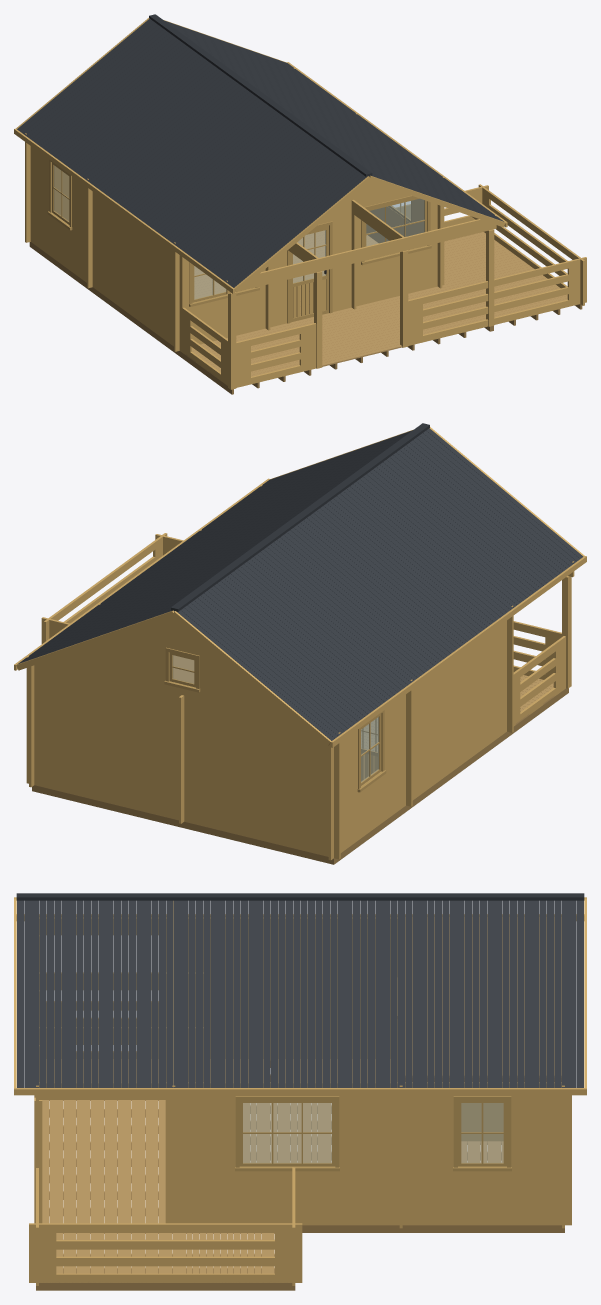
Rendered from август_6_6_44_мм_мезонин_терраса_частично_крытая.glb.
3 views of the same model, one above another, from view 1: azimuth 30°, elevation 25°; view 2: azimuth 150°, elevation 25°; view 3: azimuth 270°, elevation 25° (orthographic). The views are drawn at different scales.
Visible parts, largest first — view 1: roof, walls, deck (×2), house, object 40, floor, object 117, object 15, object 28; view 2: roof, walls, house, object 117; view 3: roof, walls, deck (×2), floor, house, object 139, slab, object 128, object 146.
Boxes of the visible parts, x1=… form: roof: x1=14, y1=14, x2=507, y2=293; walls: x1=25, y1=68, x2=586, y2=389; deck (×2): x1=184, y1=232, x2=567, y2=384; house: x1=29, y1=242, x2=582, y2=394; object 40: x1=366, y1=199, x2=424, y2=245; floor: x1=194, y1=230, x2=378, y2=315; object 117: x1=54, y1=165, x2=68, y2=221; object 15: x1=293, y1=230, x2=325, y2=282; object 28: x1=194, y1=266, x2=225, y2=299; roof: x1=14, y1=423, x2=586, y2=747; walls: x1=26, y1=485, x2=574, y2=860; house: x1=32, y1=688, x2=568, y2=864; object 117: x1=361, y1=717, x2=378, y2=782; roof: x1=14, y1=893, x2=586, y2=1095; walls: x1=29, y1=901, x2=571, y2=1285; deck (×2): x1=42, y1=1059, x2=290, y2=1282; floor: x1=210, y1=1059, x2=503, y2=1162; house: x1=36, y1=1061, x2=564, y2=1290; object 139: x1=243, y1=1103, x2=331, y2=1162; slab: x1=405, y1=917, x2=561, y2=1081; object 128: x1=461, y1=1103, x2=503, y2=1162; object 146: x1=235, y1=1167, x2=339, y2=1171.
Size of the model in its own units: 8.01 by 4.11 by 8.39.
